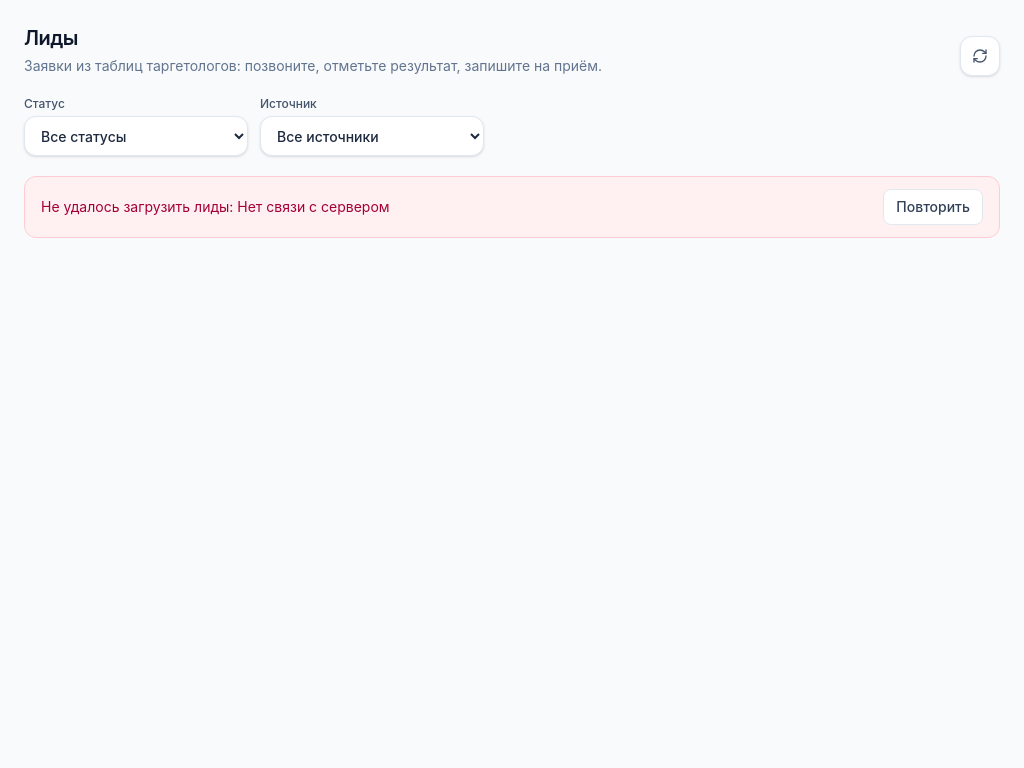
staff leads page › shows the error block with «Повторить» instead of the empty state when the list fails
Click the button "Повторить" at (933, 207), box x1=883 y1=189 x2=983 y2=225
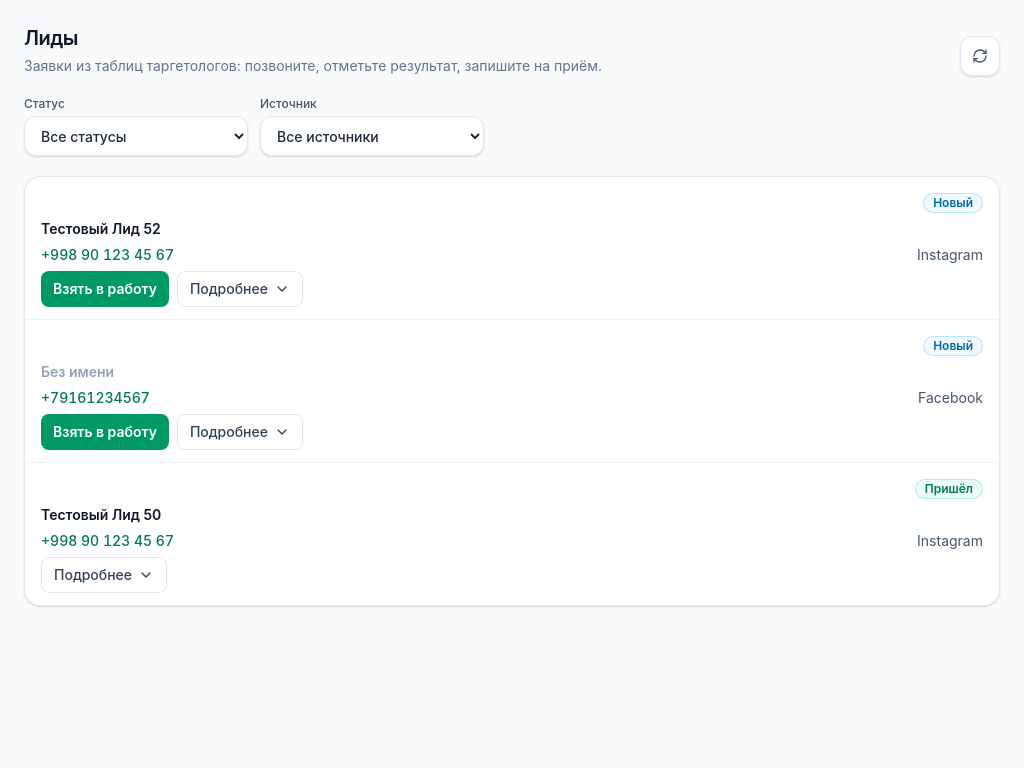
Expected: the number of list items is 3, x1=25 y1=177 x2=999 y2=320; x1=25 y1=320 x2=999 y2=463; x1=25 y1=463 x2=999 y2=605
